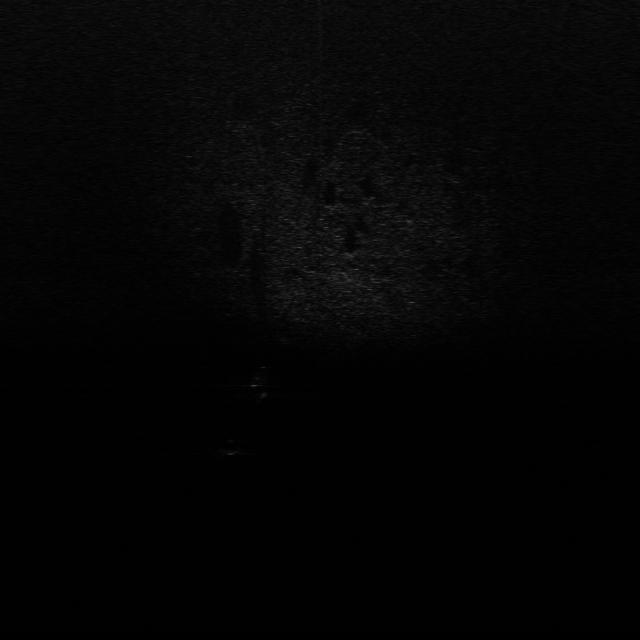ball: (213, 437, 246, 459)
human body: (251, 363, 277, 401)
